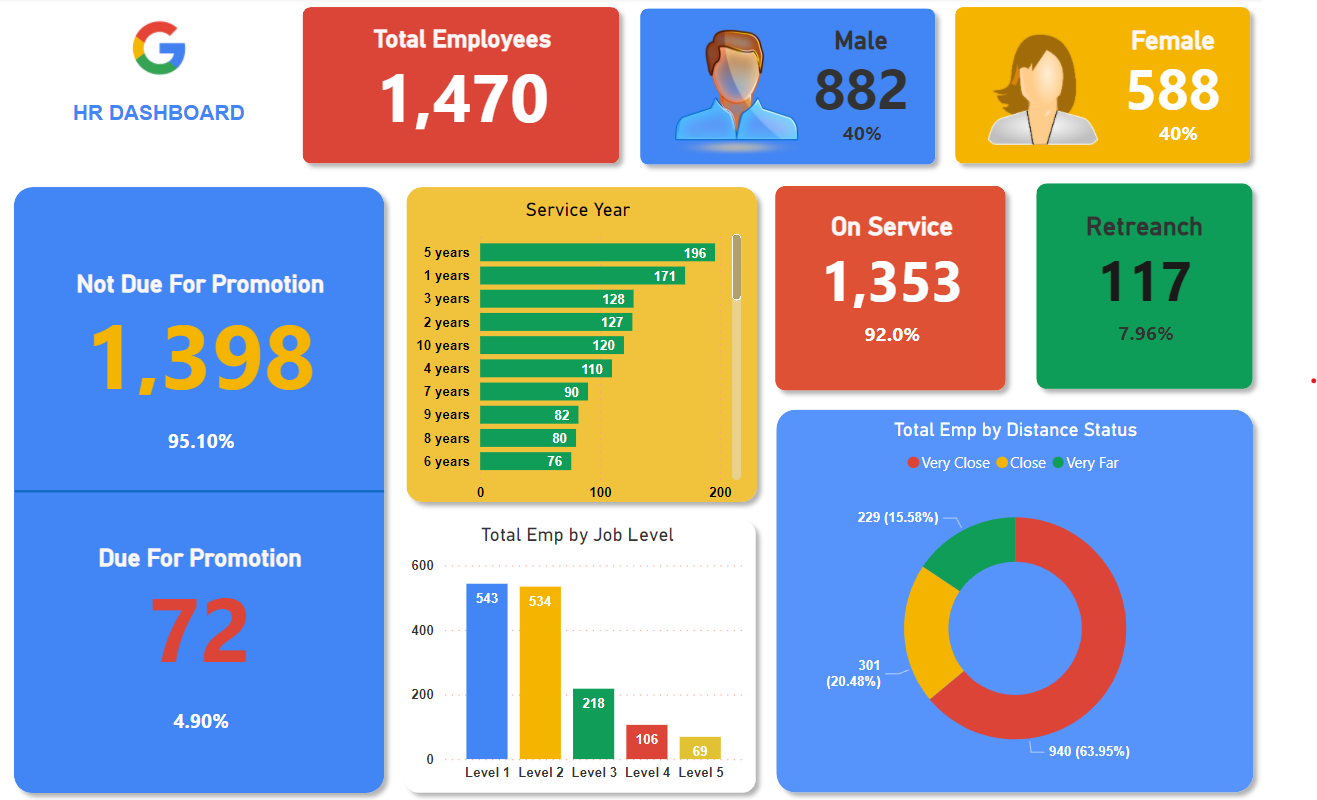

The dashboard page shown, as its layout file describes it:
{"tool":"powerbi","page":{"name":"Page 1","canvas":[1280,720],"ordinal":0},"visuals":[{"type":"shape","box":[714.2,1.4,281.5,157.9],"z":0},{"type":"shape","box":[413.4,0,300.8,157.9],"z":1000},{"type":"shape","box":[155.2,160.7,348.8,559],"z":3000},{"type":"shape","box":[505.4,160.7,331,299.4],"z":4000},{"type":"shape","box":[504,458.7,331,260.9],"z":5000},{"type":"shape","box":[835,159.3,223.9,200.5],"z":6000},{"type":"shape","box":[1068.5,157.9,211.5,201.9],"z":7000},{"type":"shape","box":[836.4,359.8,443.6,359.8],"z":8000},{"type":"textbox","box":[174.5,88.4,238.5,57],"z":9000},{"type":"card","title":"Total Employees","fields":{"Values":["all measures.Total Emp"]},"box":[427.1,24.7,274.7,98.9],"z":10000},{"type":"card","title":"Male","fields":{"Values":["all measures.Male"]},"box":[871.8,24.6,98.2,83.7],"z":11000},{"type":"image","box":[747.1,24.7,125,120.9],"z":12000},{"type":"shape","box":[995.7,0,281.5,157.9],"z":13000},{"type":"image","box":[1028.7,20.6,108.5,125],"z":14000},{"type":"card","title":"Female","fields":{"Values":["all measures.Female"]},"box":[1150.9,24.6,97.1,83.7],"z":15000},{"type":"card","title":"Male","fields":{"Values":["all measures.% female"]},"box":[1150.9,81,107.1,83.8],"z":16000},{"type":"card","title":"Male","fields":{"Values":["all measures.% female"]},"box":[868,81,107.1,83.8],"z":17000},{"type":"card","title":"Not Due For Promotion","fields":{"Values":["all measures.Not Due"]},"box":[212.9,243.1,234.8,116.7],"z":18000},{"type":"card","title":"Due For Promotion","fields":{"Values":["all measures.Due For Promotion"]},"box":[217,487.6,228,115.4],"z":19000},{"type":"card","title":"Male","fields":{"Values":["all measures.% Due for Promotion"]},"box":[277.4,618,107.1,59.1],"z":20000},{"type":"card","title":"Male","fields":{"Values":["all measures.% Not Due"]},"box":[277.4,368.1,107.1,59.1],"z":21000},{"type":"shape","box":[164.8,396.9,329.6,87.9],"z":22000},{"type":"barChart","title":"Service Year","fields":{"Category":["HR Analytics Data.Service Year"],"Y":["all measures.Total Emp"]},"box":[516.4,179.9,302.1,278.8],"z":23000},{"type":"clusteredColumnChart","fields":{"Category":["HR Analytics Data.Job Level"],"Y":["all measures.Total Emp"]},"box":[513.6,469.7,307.6,239],"z":24000},{"type":"card","title":"Male","fields":{"Values":["all measures.% On Service"]},"box":[895.5,260.9,107.1,83.8],"z":25000},{"type":"card","title":"On Service","fields":{"Values":["all measures.On Service"]},"box":[879,190.9,140.1,93.4],"z":26000},{"type":"card","title":"Male","fields":{"Values":["all measures.% Will be Retreanch"]},"box":[1122.1,259.6,107.1,83.8],"z":27000},{"type":"card","title":"Retreanch","fields":{"Values":["all measures.Retreanch"]},"box":[1104.2,190.9,140.1,93.4],"z":28000},{"type":"donutChart","fields":{"Category":["HR Analytics Data.Distance Status"],"Y":["all measures.Total Emp"]},"box":[854.2,376.3,409.3,326.9],"z":29000},{"type":"image","box":[53.5,192,89.6,334],"z":30002},{"type":"image","box":[250.2,1.2,87.3,88.4],"z":30003}]}

Visuals, with their boxes on the page's 1280x720 design canvas (x1, y1, x2, y2). These are canvas units, not pixel positions in the 1317x800 screenshot, which may show the page scaled, cropped or inside an application window:
shape: x1=714 y1=1 x2=996 y2=159
shape: x1=413 y1=0 x2=714 y2=158
shape: x1=155 y1=161 x2=504 y2=720
shape: x1=505 y1=161 x2=836 y2=460
shape: x1=504 y1=459 x2=835 y2=720
shape: x1=835 y1=159 x2=1059 y2=360
shape: x1=1068 y1=158 x2=1280 y2=360
shape: x1=836 y1=360 x2=1280 y2=720
textbox: x1=174 y1=88 x2=413 y2=145
"Total Employees" card: x1=427 y1=25 x2=702 y2=124
"Male" card: x1=872 y1=25 x2=970 y2=108
image: x1=747 y1=25 x2=872 y2=146
shape: x1=996 y1=0 x2=1277 y2=158
image: x1=1029 y1=21 x2=1137 y2=146
"Female" card: x1=1151 y1=25 x2=1248 y2=108
"Male" card: x1=1151 y1=81 x2=1258 y2=165
"Male" card: x1=868 y1=81 x2=975 y2=165
"Not Due For Promotion" card: x1=213 y1=243 x2=448 y2=360
"Due For Promotion" card: x1=217 y1=488 x2=445 y2=603
"Male" card: x1=277 y1=618 x2=384 y2=677
"Male" card: x1=277 y1=368 x2=384 y2=427
shape: x1=165 y1=397 x2=494 y2=485
"Service Year" barChart: x1=516 y1=180 x2=818 y2=459
clusteredColumnChart - HR Analytics Data.Job Level x all measures.Total Emp: x1=514 y1=470 x2=821 y2=709
"Male" card: x1=896 y1=261 x2=1003 y2=345
"On Service" card: x1=879 y1=191 x2=1019 y2=284
"Male" card: x1=1122 y1=260 x2=1229 y2=343
"Retreanch" card: x1=1104 y1=191 x2=1244 y2=284
donutChart - HR Analytics Data.Distance Status x all measures.Total Emp: x1=854 y1=376 x2=1264 y2=703
image: x1=54 y1=192 x2=143 y2=526
image: x1=250 y1=1 x2=338 y2=90
